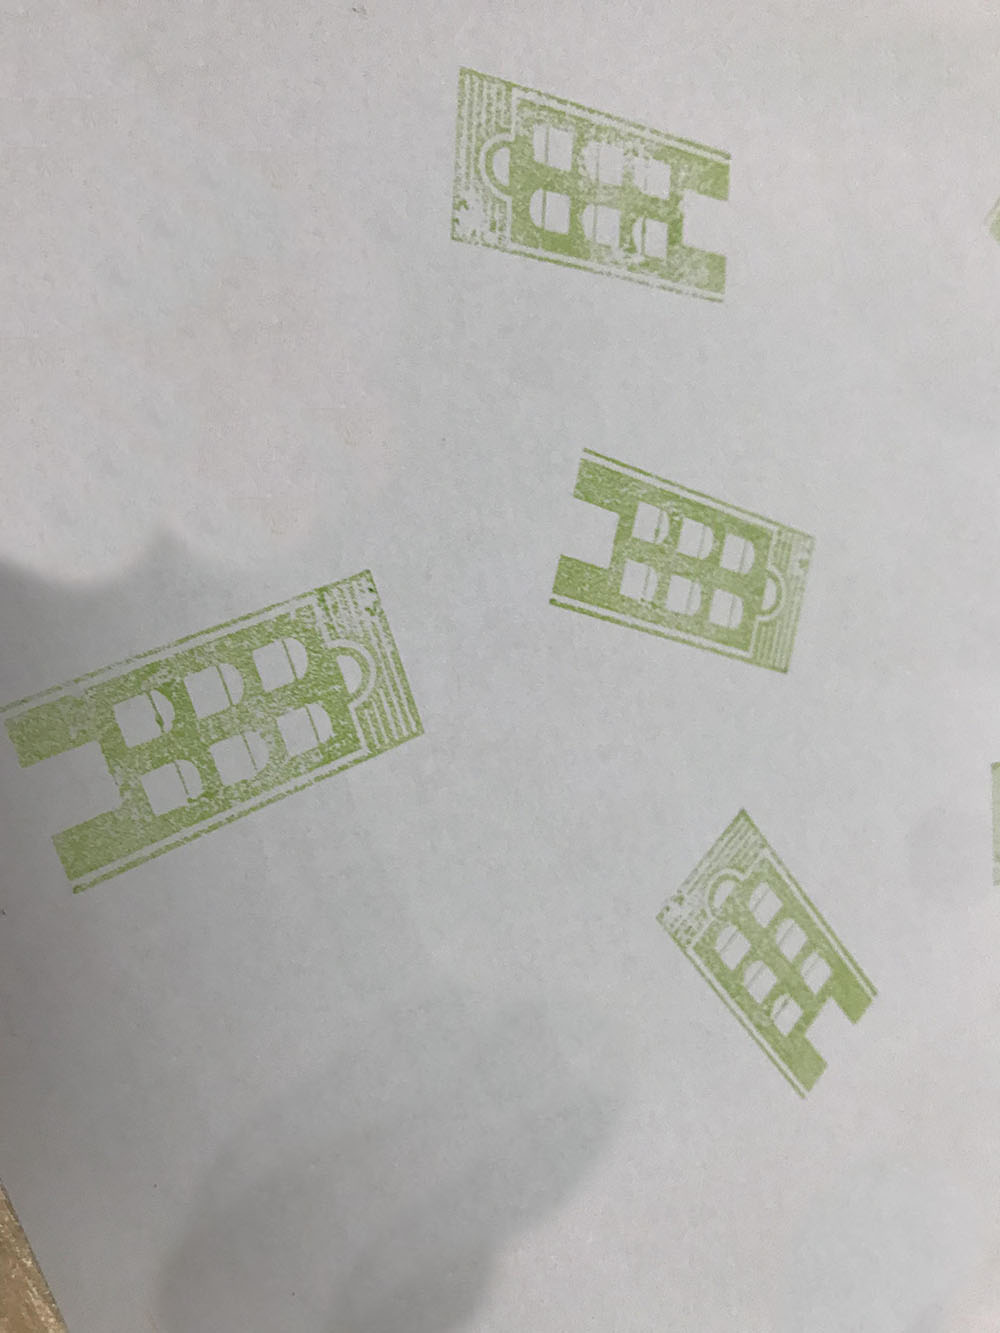build: (1, 544, 438, 950), (397, 39, 788, 338), (624, 794, 917, 1118), (517, 426, 834, 703)
